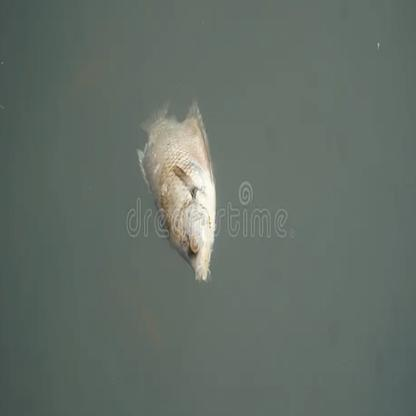deceased fish: (136, 96, 217, 283)
